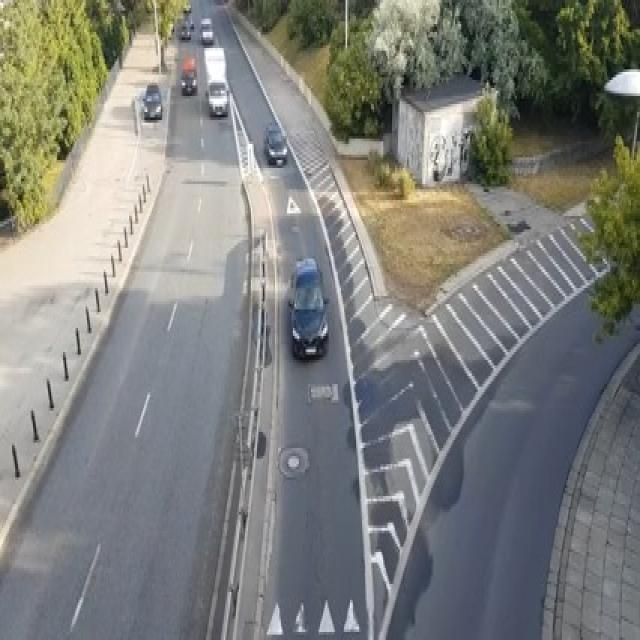car: (287, 256, 327, 360), (263, 120, 287, 165), (206, 77, 228, 115), (141, 83, 162, 120), (180, 70, 197, 94), (200, 16, 213, 43), (180, 21, 191, 40), (183, 0, 190, 13), (168, 22, 173, 38)
